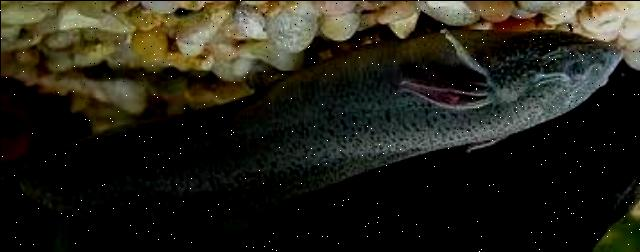Sirip Dada: (391, 16, 505, 116)
Sirip Ekor: (4, 116, 108, 234)
